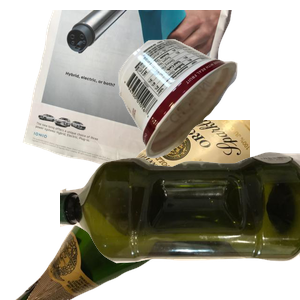glass: (13, 120, 253, 300)
paper: (20, 10, 244, 190)
plastic: (60, 149, 300, 300)
trash: (116, 36, 300, 187)
